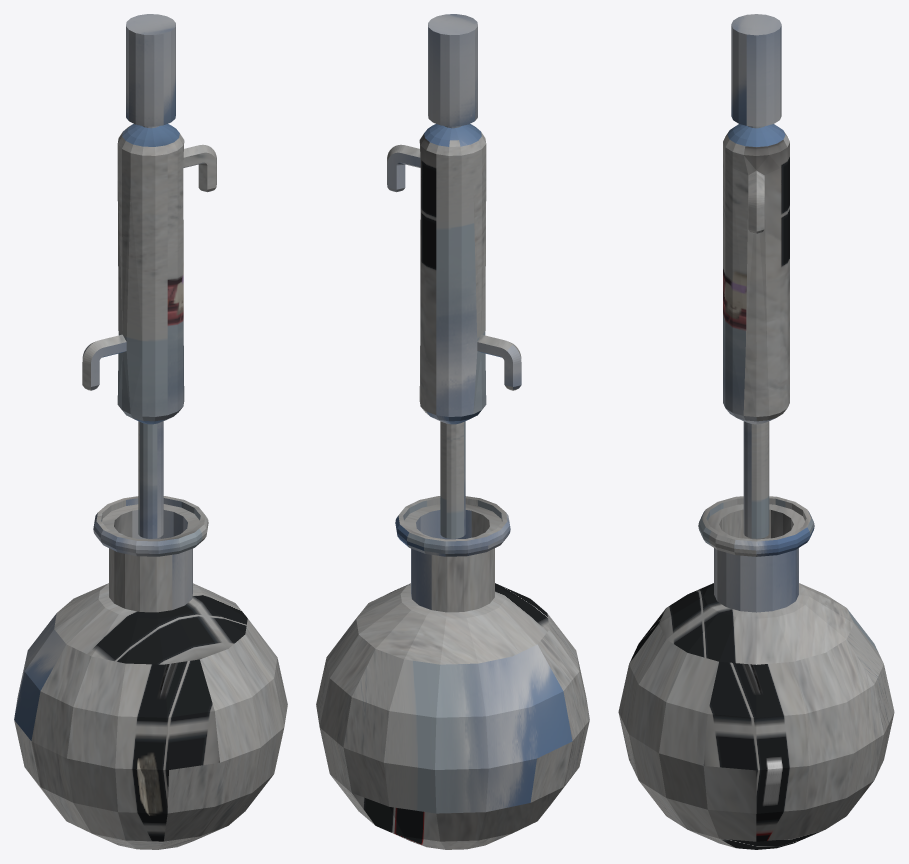
File: ballon.obj
3 views of the same model, side by side, from view 1: azimuth 30°, elevation 25°; view 2: azimuth 150°, elevation 25°; view 3: azimuth 270°, elevation 25° (orthographic).
Parts seen in each view (by area): view 1: Sphere; view 2: Sphere; view 3: Sphere.
Boxes of the visible parts, x1=… form: Sphere: x1=14, y1=14, x2=287, y2=849; Sphere: x1=316, y1=14, x2=589, y2=849; Sphere: x1=618, y1=14, x2=894, y2=849.
Bounding box in the file's own units: 1.04 × 3.37 × 1.04.
1 material, 1 textured.
